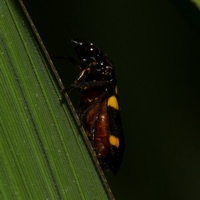insect: (66, 40, 123, 172)
